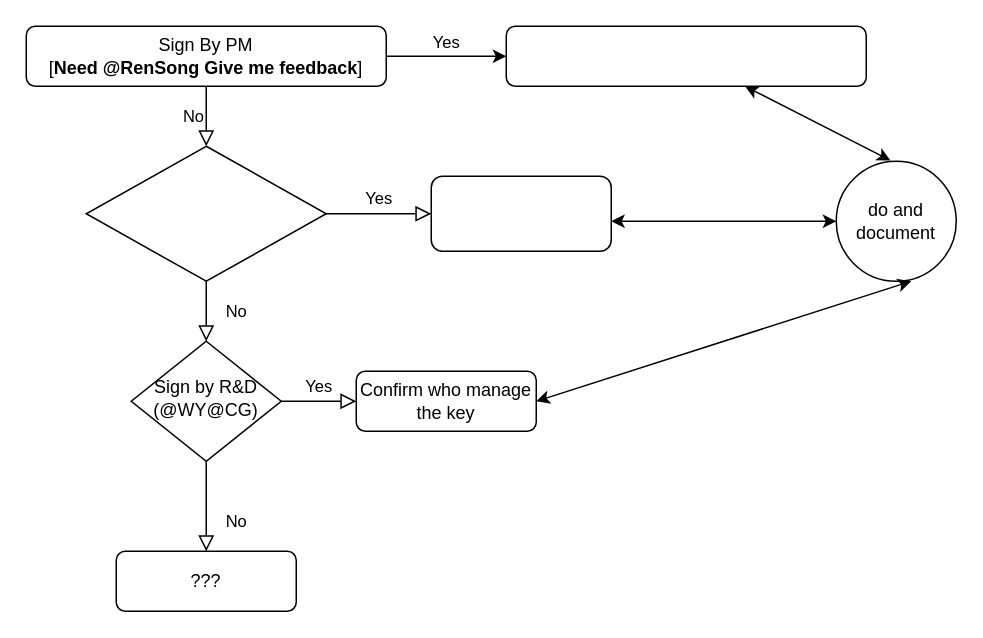
Image size: 983x638. Some labels were removed from this diagram. Here are the shapes that lost their labels. From the top down, the box of each, then its label:
(505, 25, 866, 86): confirm the details of release(@WY @WW @RS)
(85, 145, 326, 281): Sign by Jenkins Discuss with Zug (@WY)
(430, 175, 611, 251): research the process in jenkins and add(@WY)
